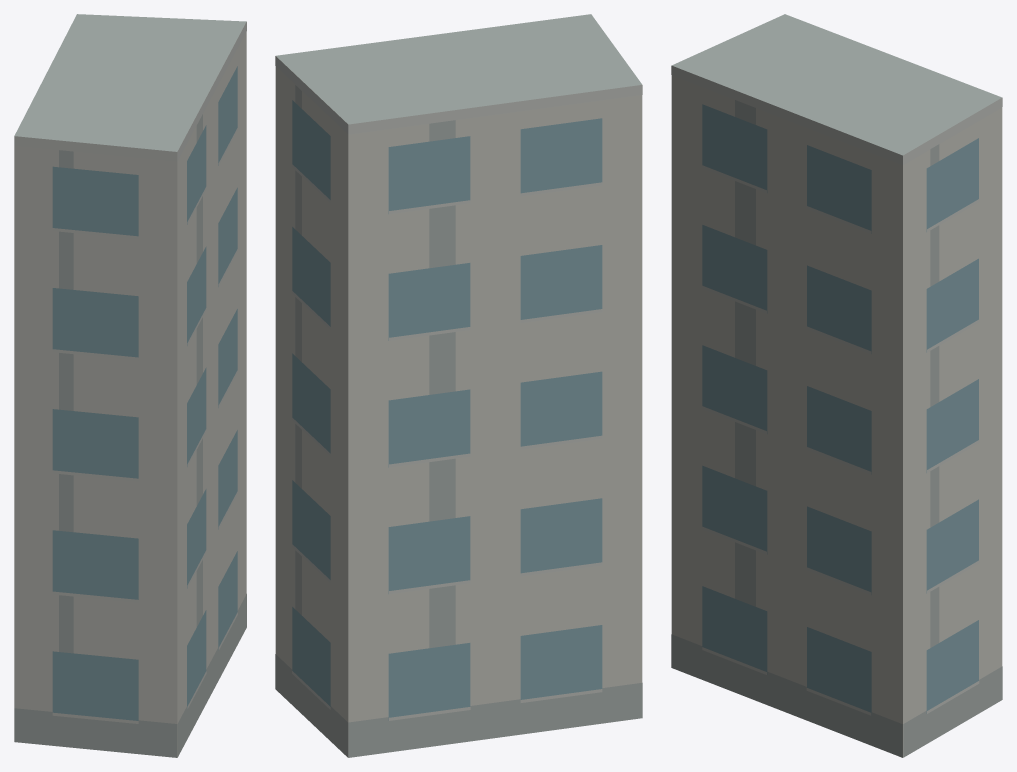
The model's file is survey-upis-32888731.glb.
3 renders of one model, left to right at view 1: azimuth 30°, elevation 25°; view 2: azimuth 150°, elevation 25°; view 3: azimuth 270°, elevation 25°, orthographic. The views are drawn at different scales.
Visible parts, largest first — view 1: survey-upis-32888731.tmp; view 2: survey-upis-32888731.tmp; view 3: survey-upis-32888731.tmp.
Part boxes in pixels (x1,y1,x2,y2): survey-upis-32888731.tmp: (14, 14, 246, 757); survey-upis-32888731.tmp: (275, 14, 642, 757); survey-upis-32888731.tmp: (671, 14, 1002, 757).
Size of the model in its own units: 7.69 by 15.25 by 7.6.
